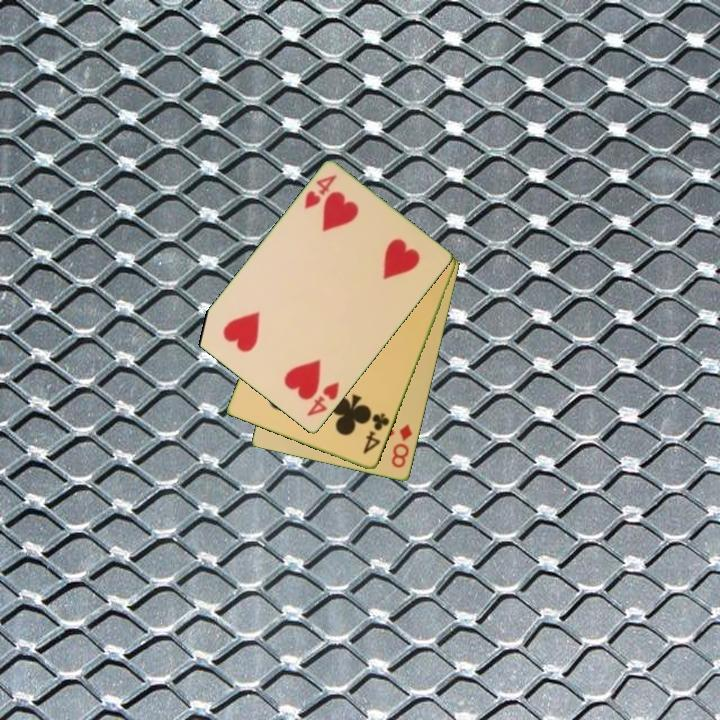4c: (360, 409, 393, 457)
4h: (300, 171, 340, 212), (303, 379, 342, 420)
8d: (388, 421, 415, 471)
